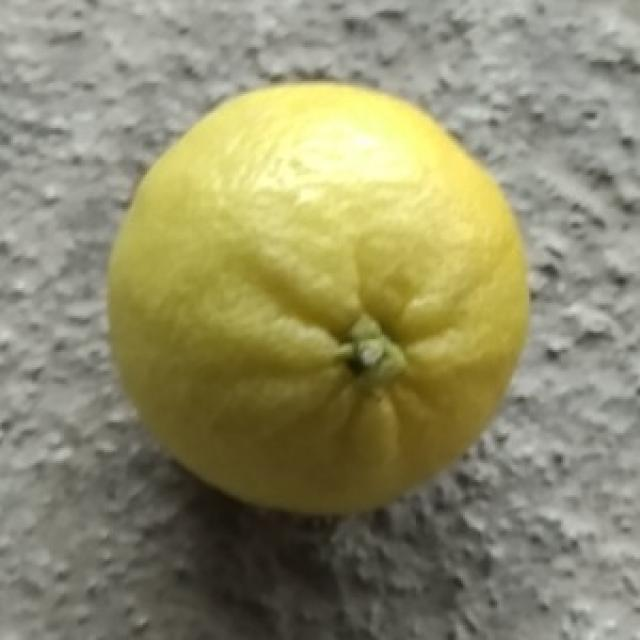Ripe: (101, 76, 535, 521)
